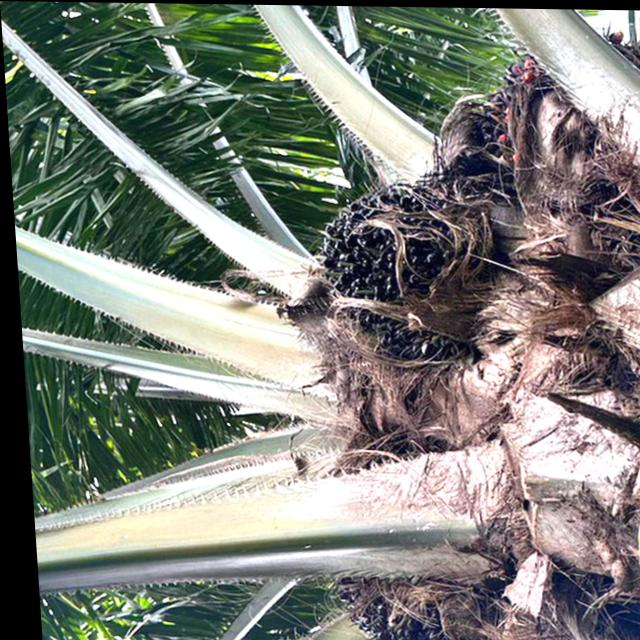unripe: (310, 181, 481, 367), (321, 551, 469, 640)
